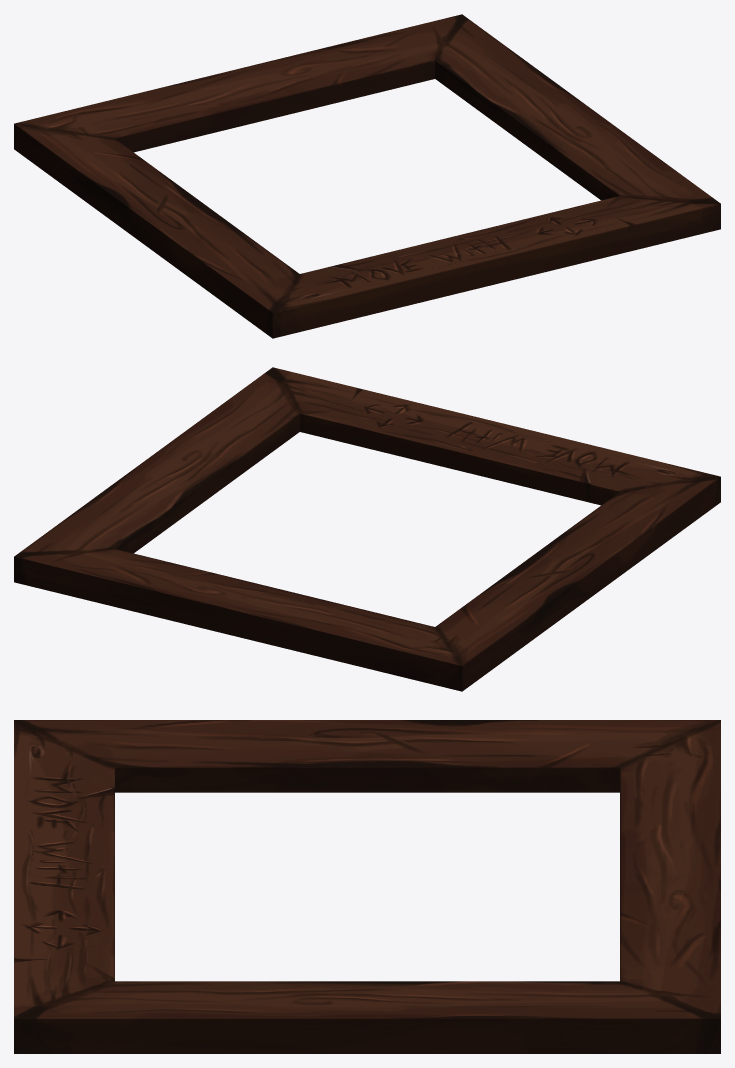
File: MedievalFrame.fbx
The picture shows the model from 3 angles, top to bottom: view 1: azimuth 30°, elevation 25°; view 2: azimuth 150°, elevation 25°; view 3: azimuth 270°, elevation 25°; orthographic projection. The views are drawn at different scales.
Visible parts, largest first — view 1: pCube53; view 2: pCube53; view 3: pCube53.
Boxes of the visible parts, bbox=[...] form: pCube53: bbox=[14, 14, 720, 338]; pCube53: bbox=[14, 367, 720, 691]; pCube53: bbox=[14, 720, 720, 1053].
Size of the model in its own units: 262 by 14.34 by 262.
